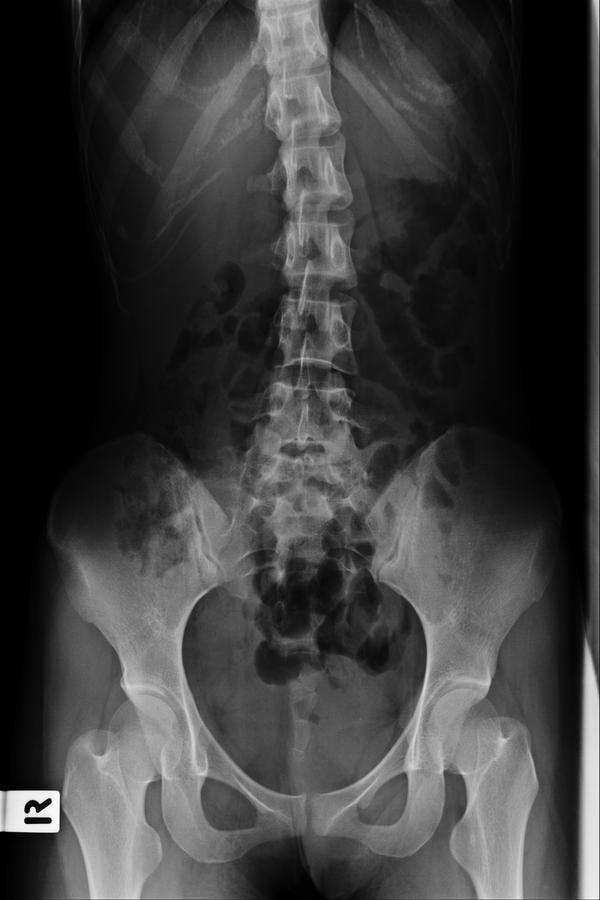lumbar scoliosis: (247, 68, 378, 492)
